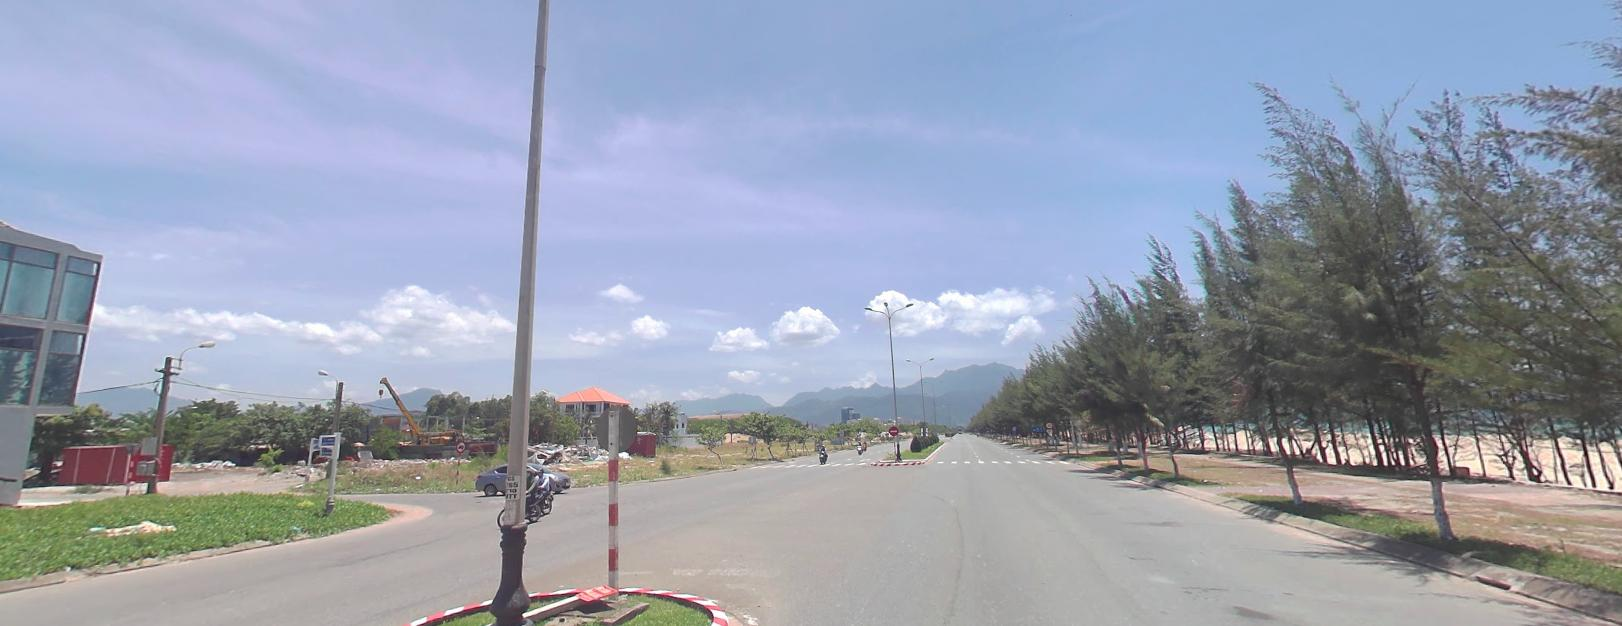Cam con lai: (455, 439, 465, 451), (1045, 420, 1052, 427)
Cam nguoc chieu: (888, 424, 898, 434)
